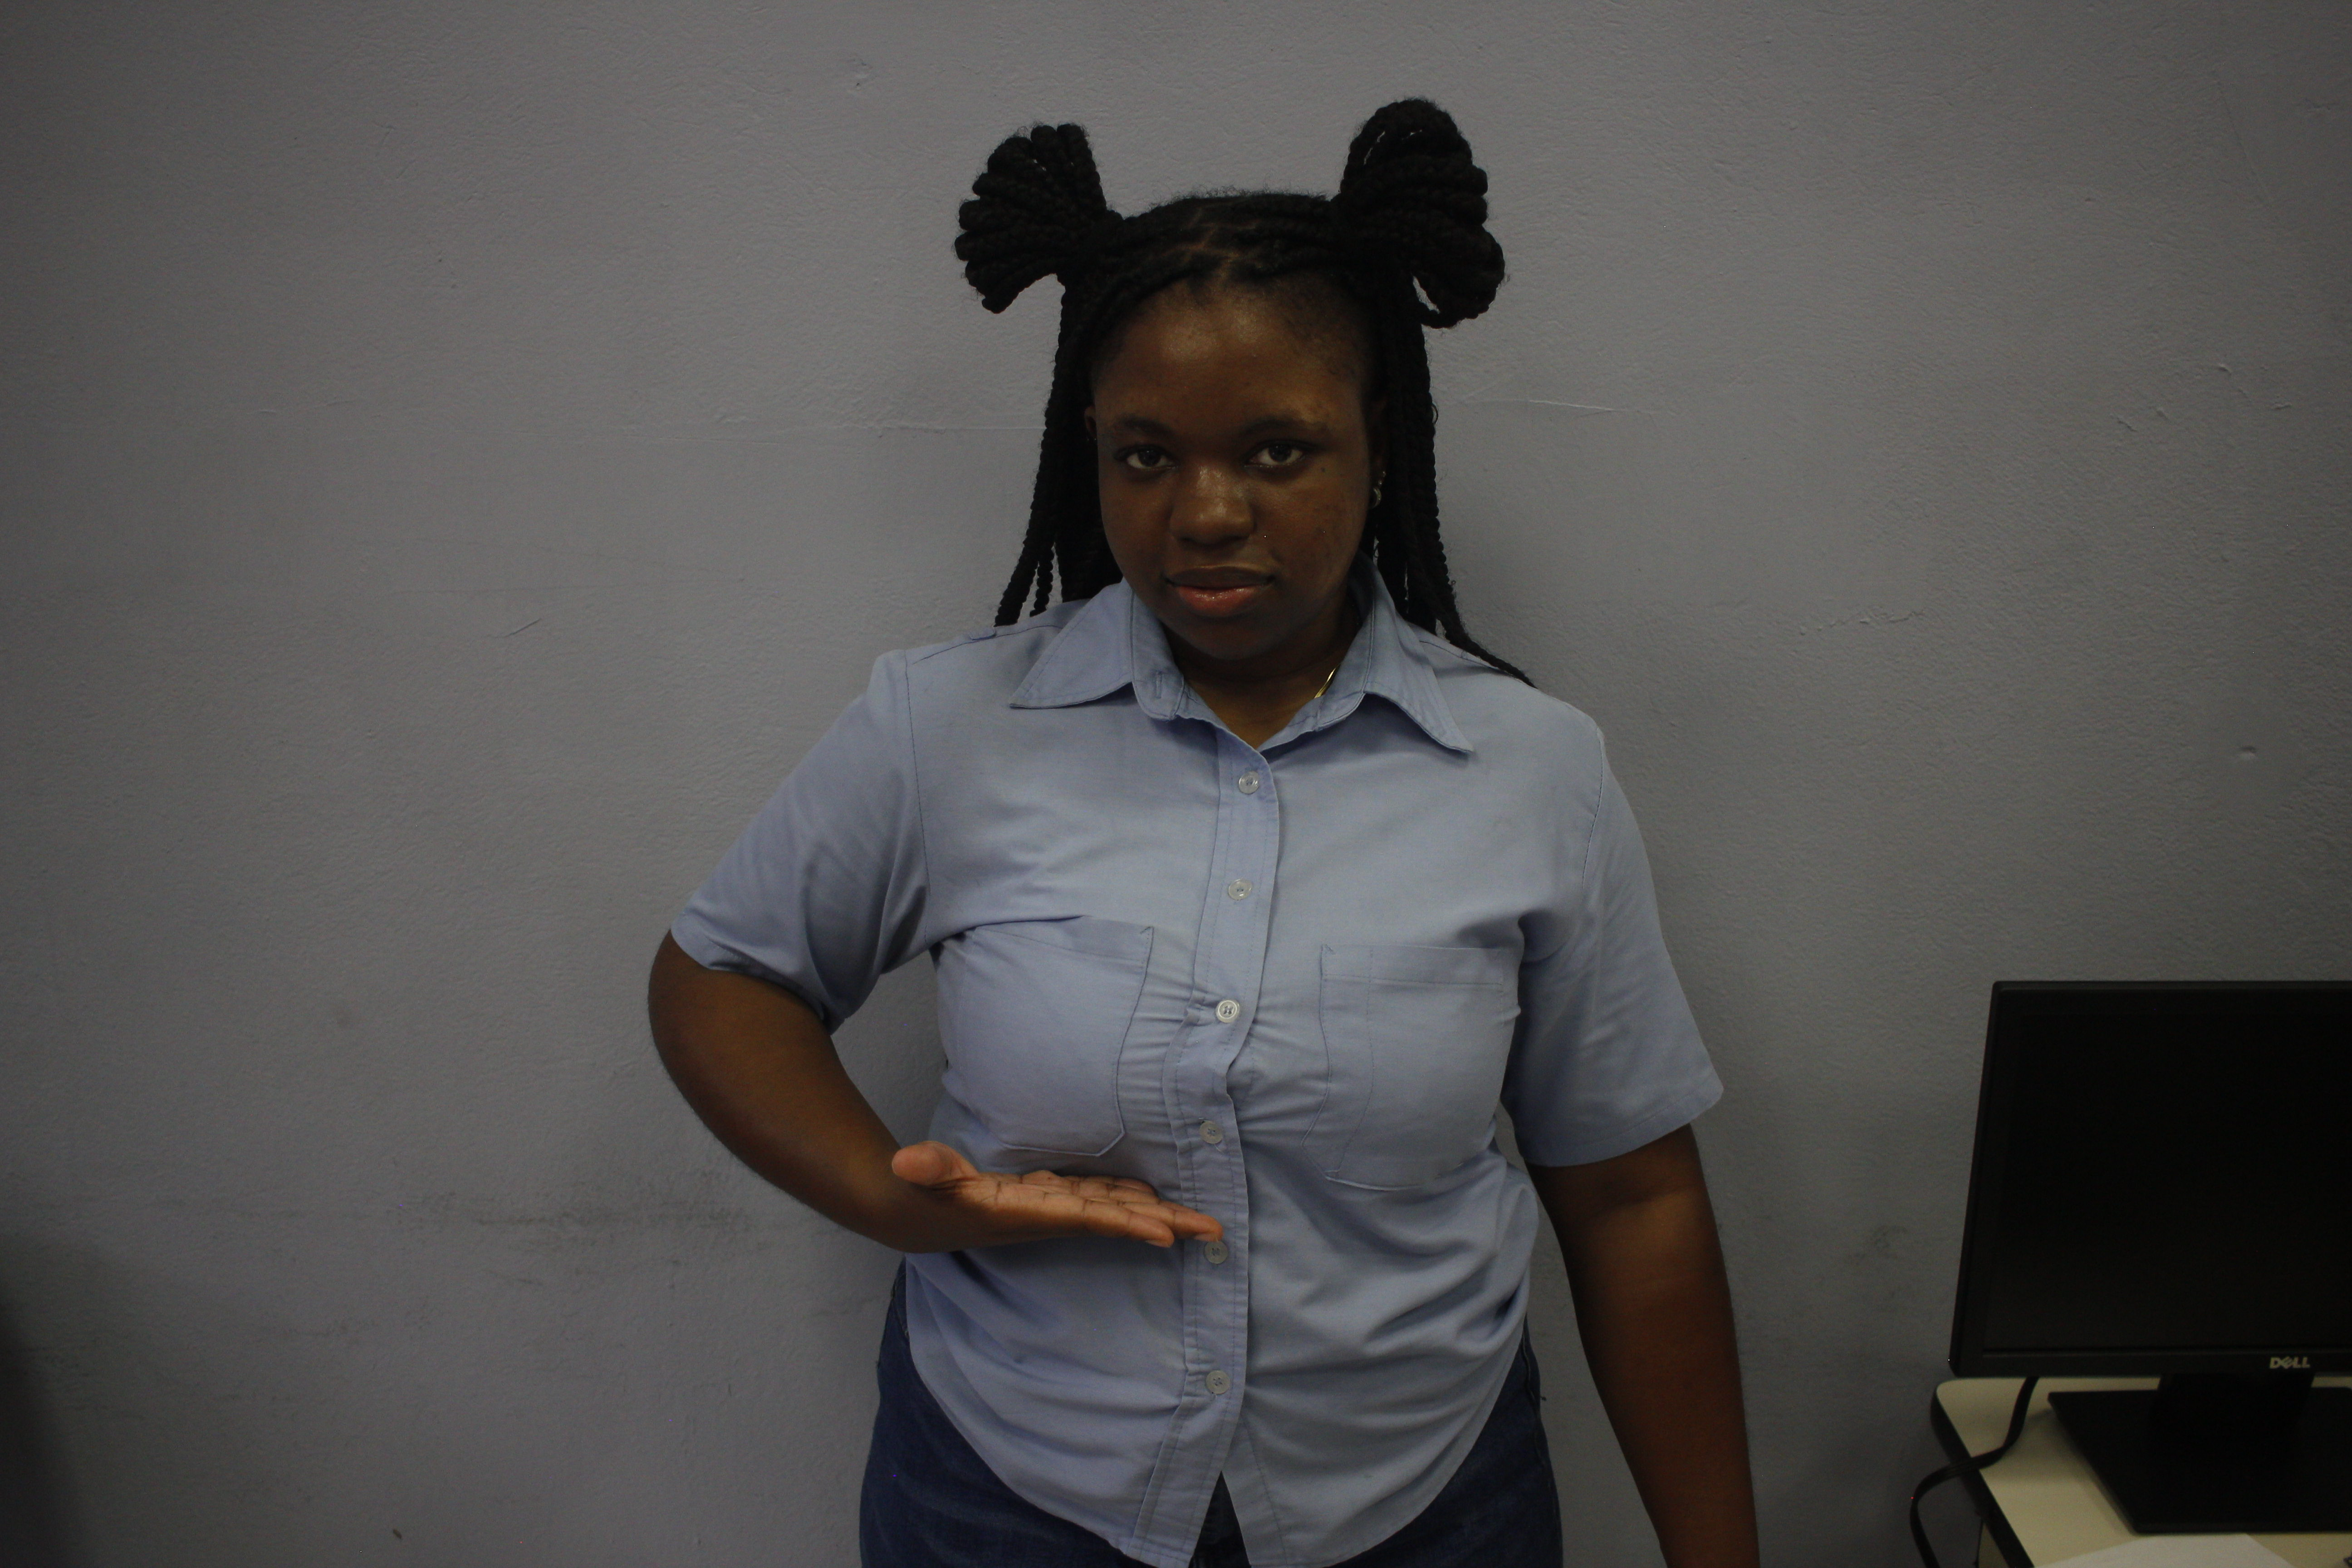you are welcome: (884, 1123, 1225, 1270)
